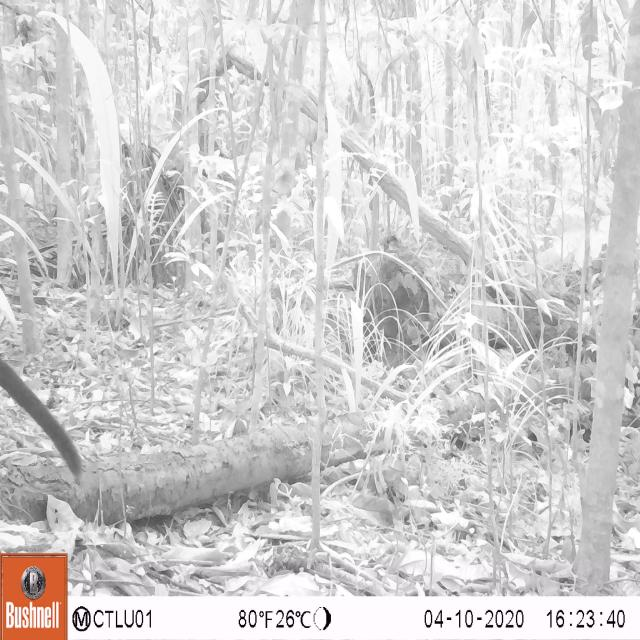Tayra: (0, 338, 84, 457)
